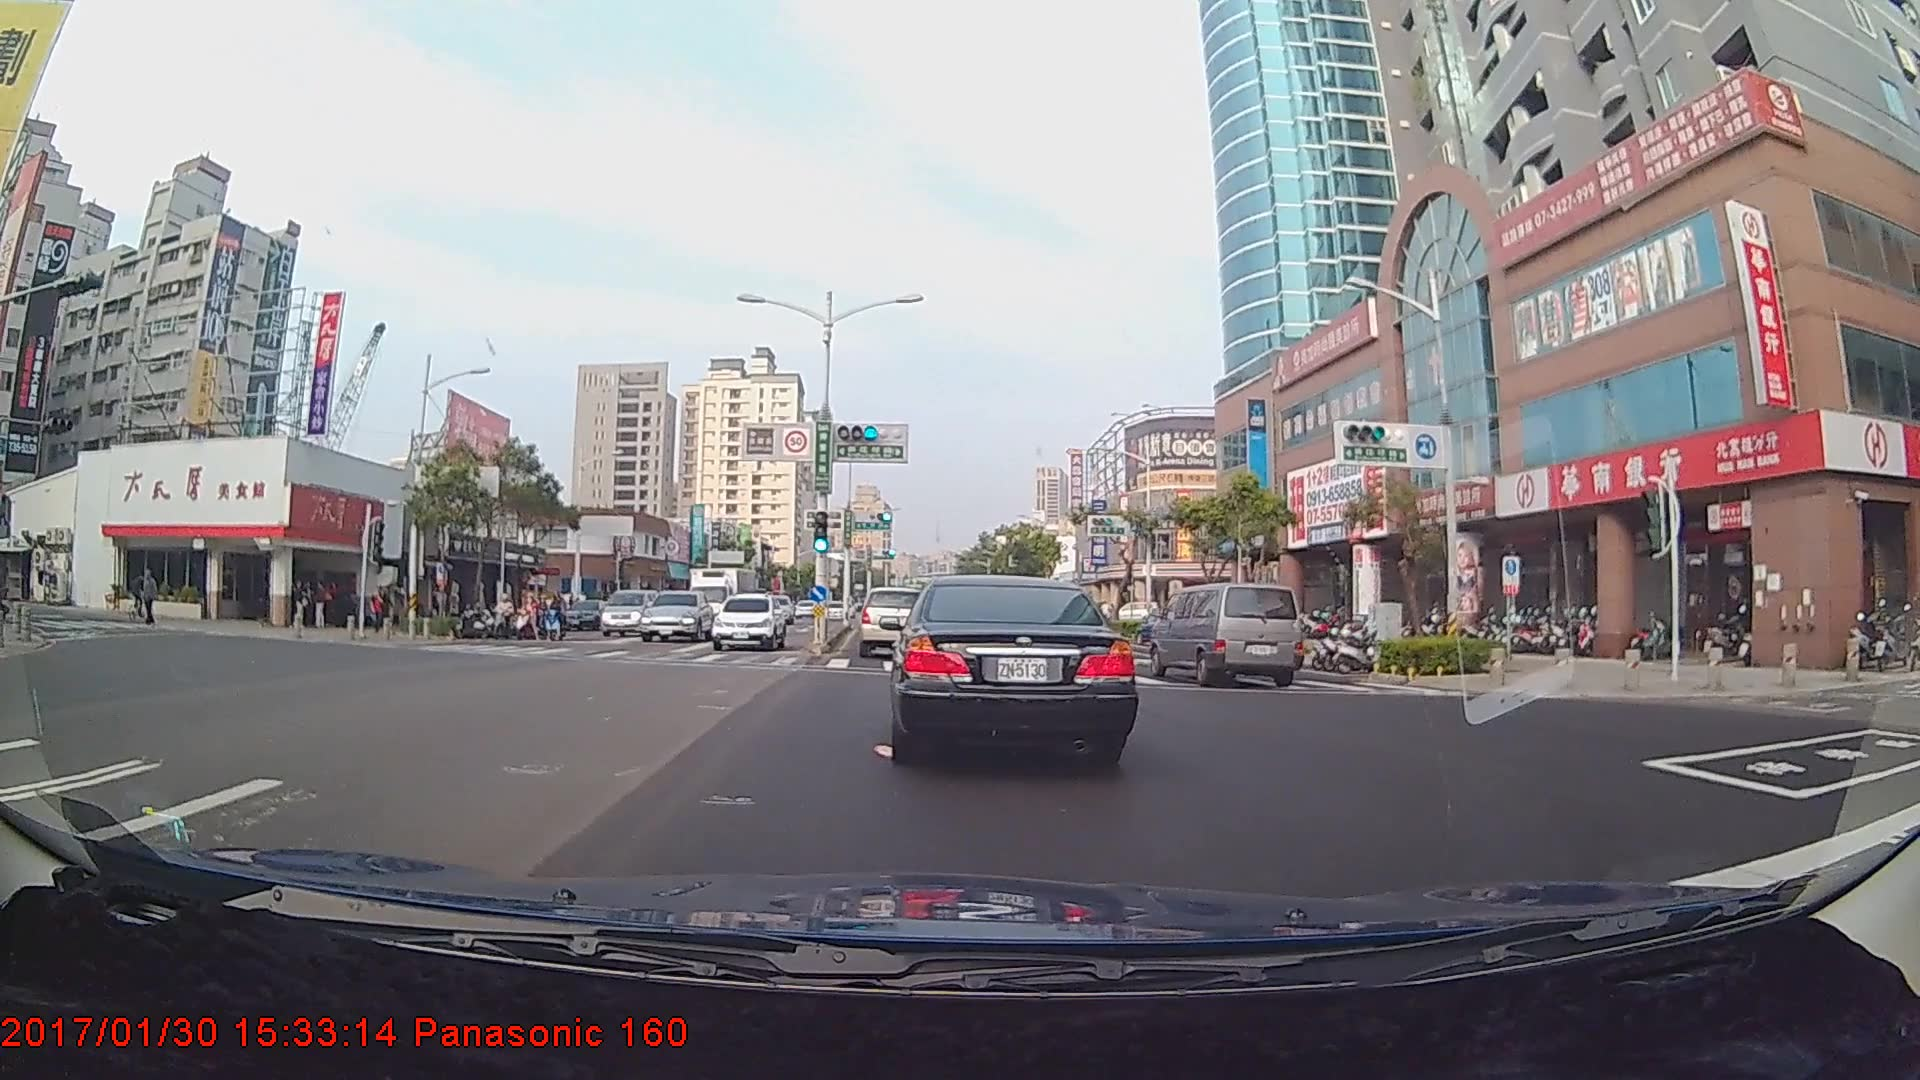pedestrian: (137, 569, 161, 627), (290, 578, 312, 633), (311, 580, 331, 630)
vehicle: (888, 570, 1131, 763), (1150, 580, 1303, 689), (689, 562, 764, 636), (857, 583, 931, 656), (711, 593, 787, 650), (638, 590, 715, 644), (596, 585, 659, 637)
